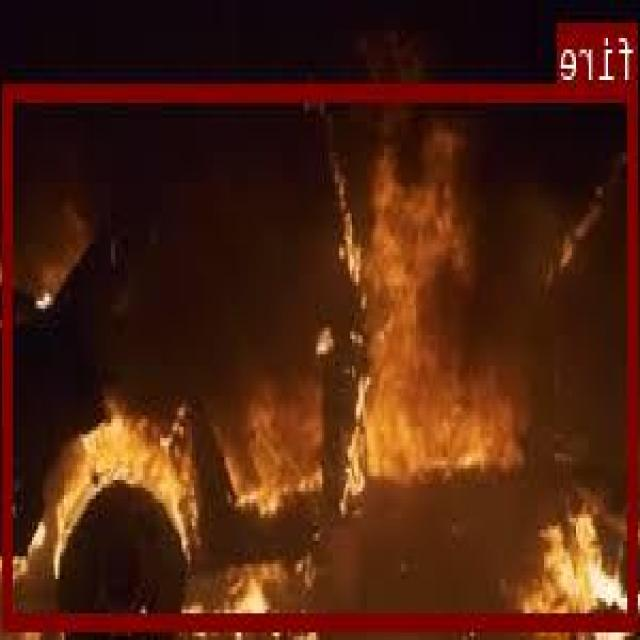fire: (5, 82, 638, 628)
